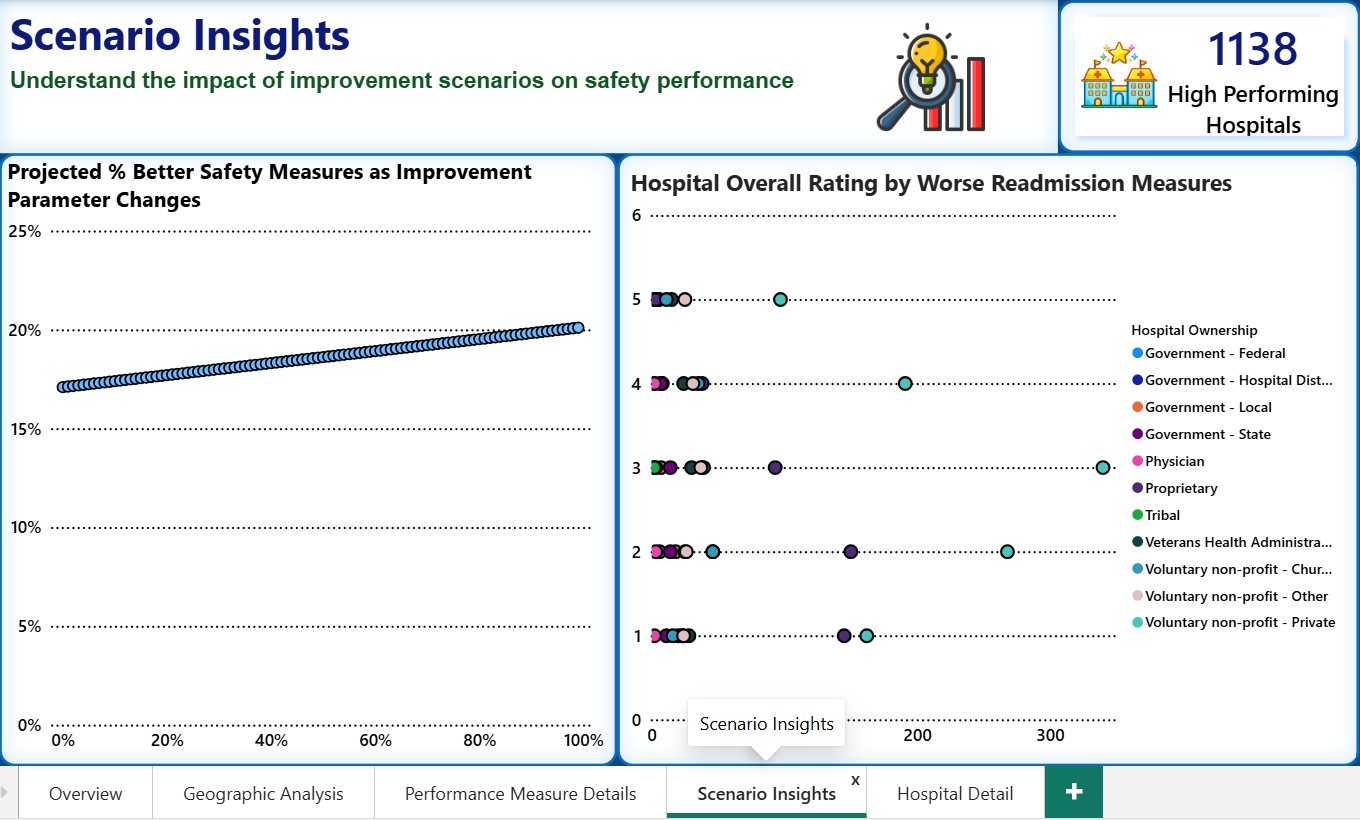

What the dashboard file says about the page in this screenshot:
{"tool":"powerbi","page":{"name":"Scenario Insights","canvas":[1280,720],"ordinal":3},"visuals":[{"type":"actionButton","box":[0,0,100,40],"z":0},{"type":"slicer","fields":{"Values":["ImprovementPCT.Improvement Percentage"]},"box":[87.5,348.5,298.5,96.9],"z":1000},{"type":"lineChart","title":"Projected % Better Safety Measures as Improvement Parameter Changes","fields":{"Category":["ImprovementPCT.Improvement Percentage"],"Y":["Measures_Table.Safety_PCT_Better_Adjusted"]},"box":[0,143.8,581.4,576.7],"z":2000},{"type":"scatterChart","title":"Hospital Overall Rating by Worse Readmission Measures","fields":{"X":["Measures_Table.ReadM_Worse_Count"],"Series":["Dim_HospitalOwnership.Hospital_Ownership"],"Y":["Fact_Hospital.Hospital overall rating"]},"box":[581.4,143.8,698.7,576.7],"z":3000},{"type":"textbox","title":"Scenario Insights","box":[0,0,995.6,143.8],"z":4000},{"type":"image","box":[790.9,12.5,170.4,118.8],"z":5000},{"type":"cardVisual","title":"Total Hospitals","fields":{"Data":["Measures_Table.High_Performing_Count"]},"box":[995.6,0,285,144],"z":6000}]}

Visuals, with their boxes on the page's 1280x720 design canvas (x1, y1, x2, y2). These are canvas units, not pixel positions in the 1360x820 screenshot, which may show the page scaled, cropped or inside an application window:
actionButton: {"x1": 0, "y1": 0, "x2": 100, "y2": 40}
slicer - ImprovementPCT.Improvement Percentage: {"x1": 88, "y1": 348, "x2": 386, "y2": 445}
"Projected % Better Safety Measures as Improvement Parameter Changes" lineChart: {"x1": 0, "y1": 144, "x2": 581, "y2": 720}
"Hospital Overall Rating by Worse Readmission Measures" scatterChart: {"x1": 581, "y1": 144, "x2": 1280, "y2": 720}
"Scenario Insights" textbox: {"x1": 0, "y1": 0, "x2": 996, "y2": 144}
image: {"x1": 791, "y1": 12, "x2": 961, "y2": 131}
"Total Hospitals" cardVisual: {"x1": 996, "y1": 0, "x2": 1281, "y2": 144}
